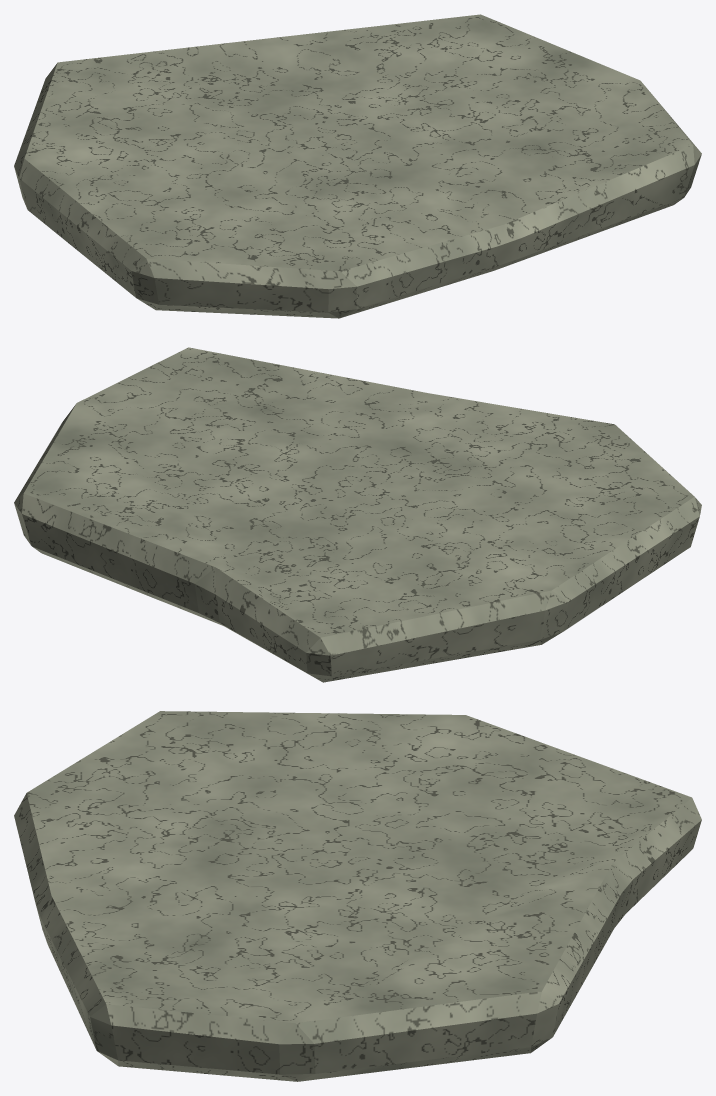
File: PathStone_C.fbx
The picture shows the model from 3 angles, top to bottom: view 1: azimuth 30°, elevation 25°; view 2: azimuth 150°, elevation 25°; view 3: azimuth 270°, elevation 25°; orthographic projection. The views are drawn at different scales.
Visible parts, largest first — view 1: PathStone_C.001; view 2: PathStone_C.001; view 3: PathStone_C.001.
Boxes of the visible parts, <box> form: PathStone_C.001: <box>14,14,701,318</box>; PathStone_C.001: <box>14,347,701,682</box>; PathStone_C.001: <box>14,711,701,1081</box>.
Size of the model in its own units: 0.8431 by 0.0887 by 0.7595.
